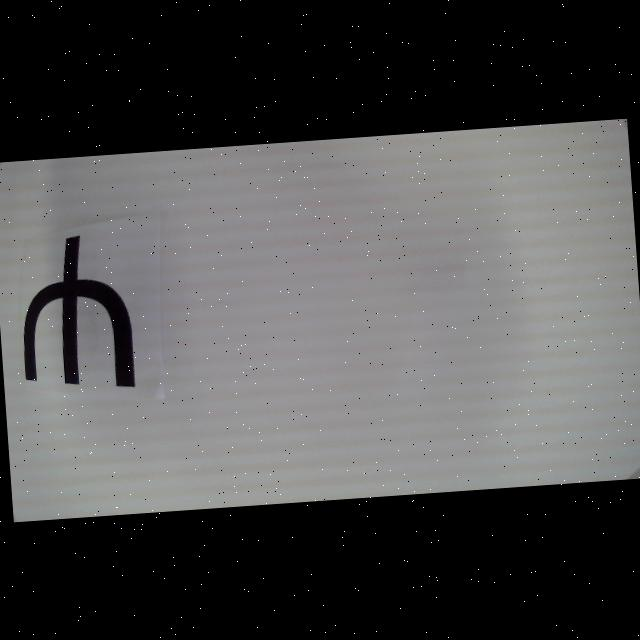PSI: (15, 232, 137, 394)
